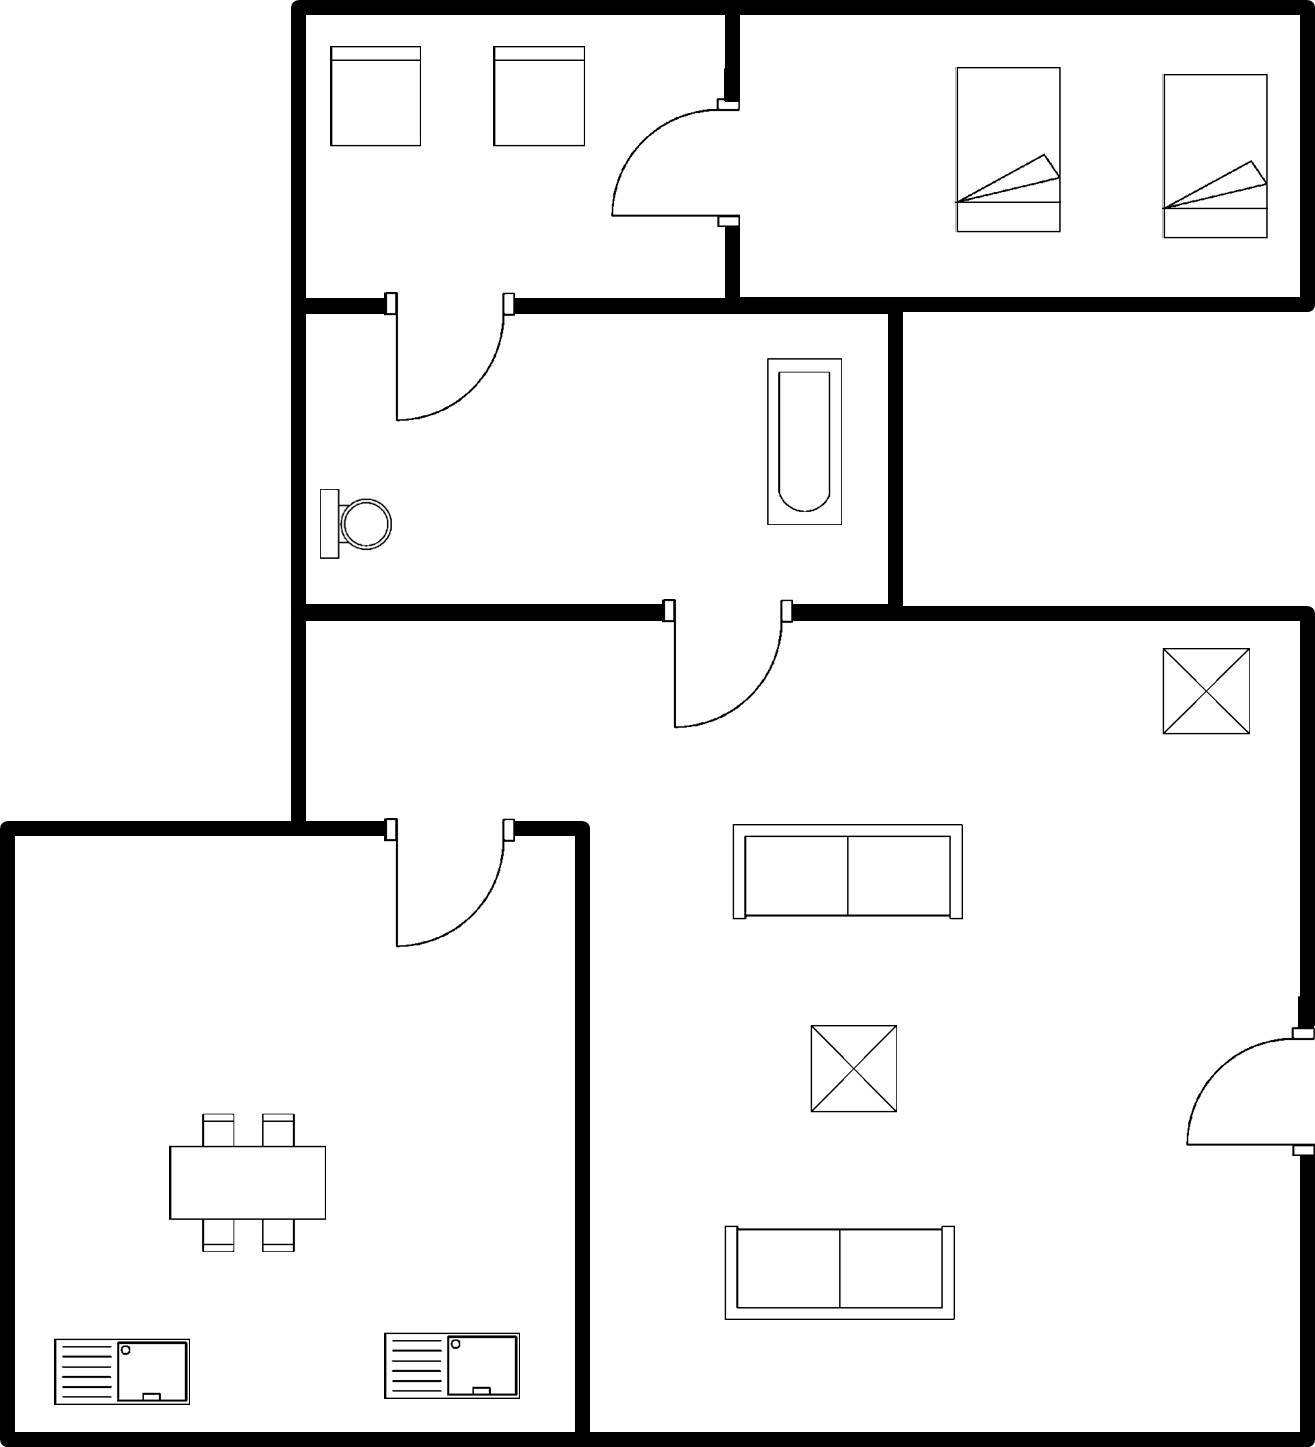bed: (1155, 62, 1279, 248), (947, 54, 1069, 242)
coffee_table: (803, 1014, 906, 1127), (1154, 638, 1256, 747)
dining_table: (161, 1104, 337, 1262)
large_sink: (313, 479, 397, 571)
large_sofa: (714, 1214, 965, 1333), (724, 811, 970, 928)
sink: (44, 1330, 199, 1413), (376, 1324, 527, 1407)
small_sofa: (321, 38, 435, 161), (485, 35, 592, 155)
tub: (762, 348, 851, 538)
